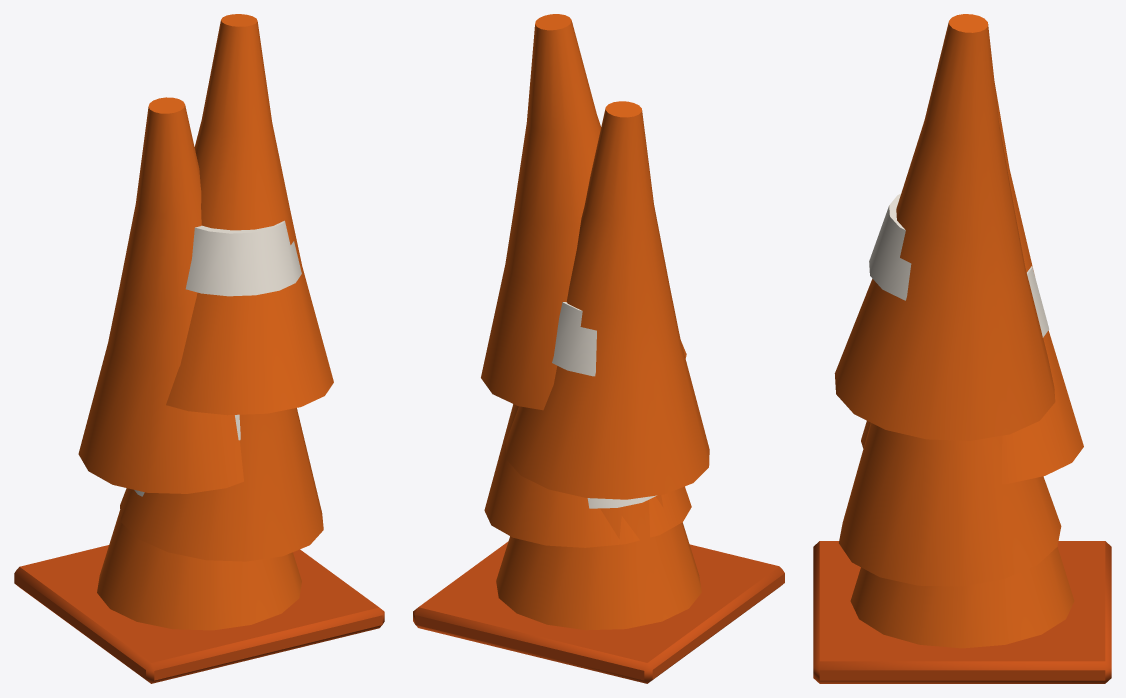
The model's file is pylon_stack.glb.
3 views of the same model, side by side, from view 1: azimuth 30°, elevation 25°; view 2: azimuth 150°, elevation 25°; view 3: azimuth 270°, elevation 25° (orthographic). The views are drawn at different scales.
Parts seen in each view (by area): view 1: pylon_stack; view 2: pylon_stack; view 3: pylon_stack.
Boxes of the visible parts, x1,y1,x2,y2 form: pylon_stack: (14, 14, 384, 683); pylon_stack: (413, 14, 784, 683); pylon_stack: (813, 14, 1111, 683).
Bounding box in the file's own units: 0.36 × 0.8303 × 0.36.
